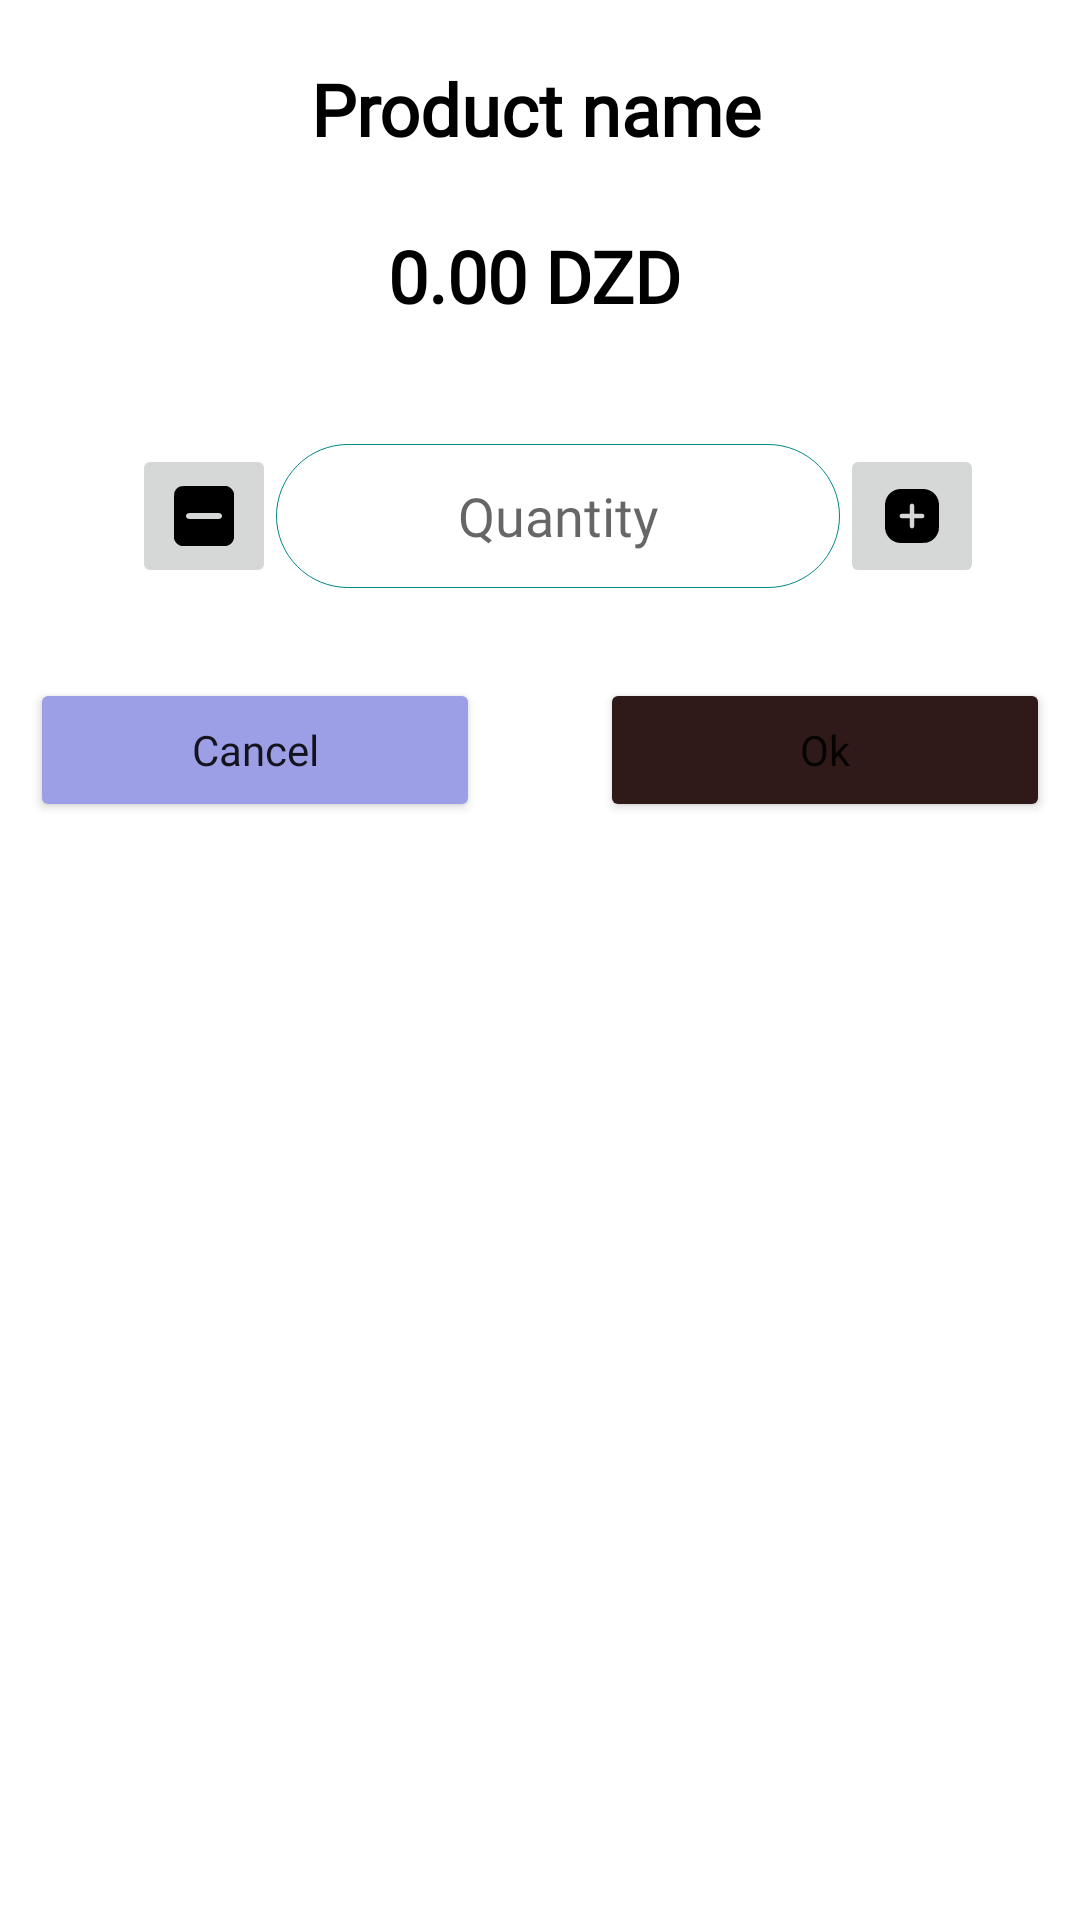

Point at icon controls on the screen. Image size 1080×1920, points as [x,y].
minus: [204,516]
plus: [912,516]
